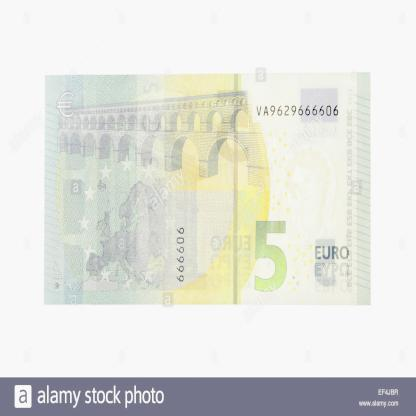euro_banknote: (46, 76, 371, 306)
